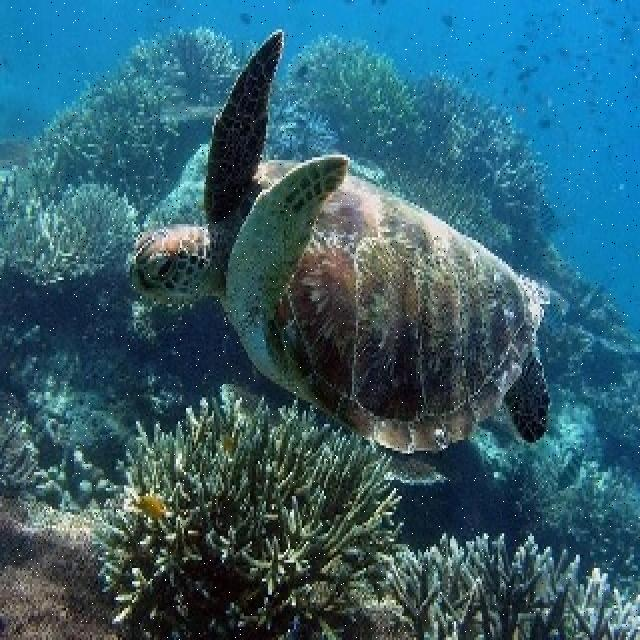fish: (131, 30, 551, 455), (127, 491, 167, 517)
reefs: (93, 394, 407, 633), (385, 532, 638, 637), (29, 74, 181, 209), (285, 37, 417, 148), (0, 185, 141, 286)
